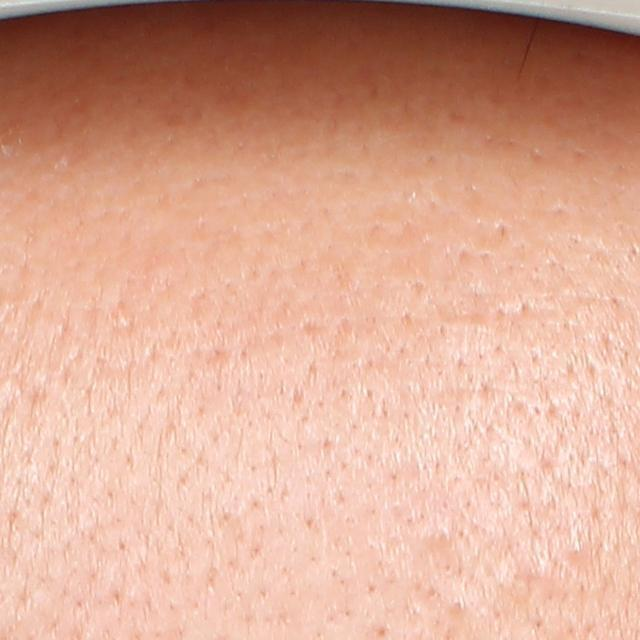comedo: (431, 524, 451, 547), (119, 312, 134, 333)
